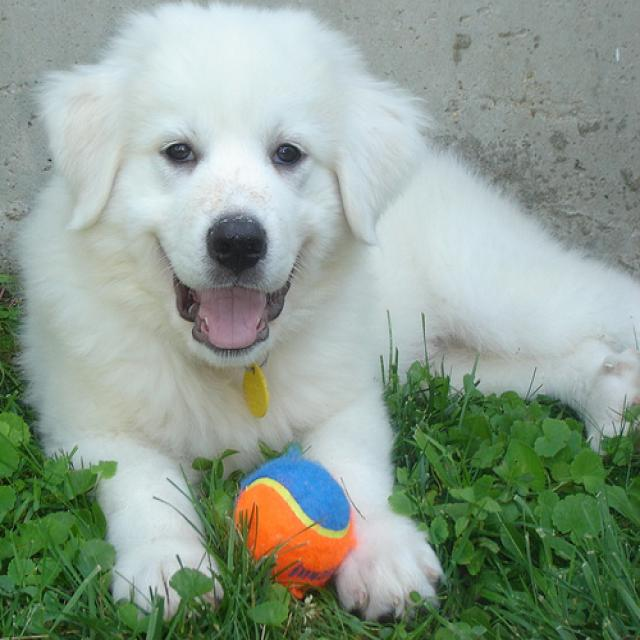dog-great_pyrenees: (10, 1, 637, 626)
